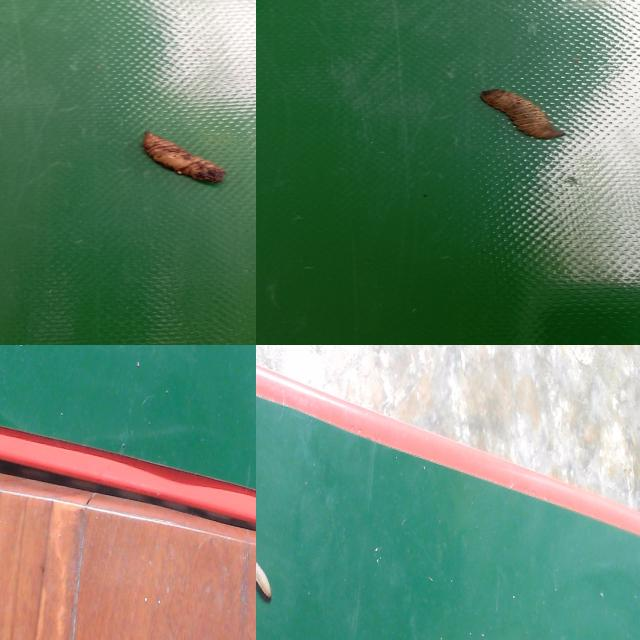Maggot: (141, 132, 228, 187), (479, 89, 559, 142), (256, 560, 273, 605)
